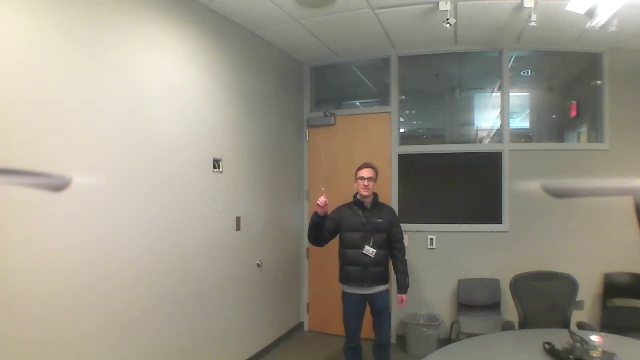up: (313, 183, 331, 214)
